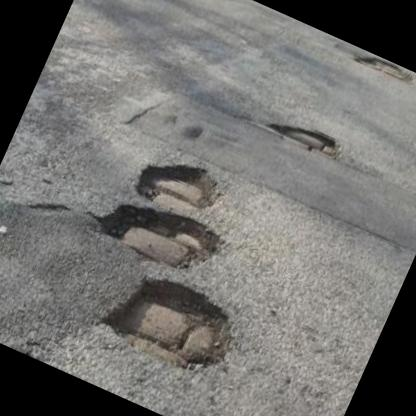pothole: (92, 257, 246, 385), (89, 180, 228, 284), (132, 142, 228, 223), (262, 107, 348, 162), (349, 46, 416, 89)
